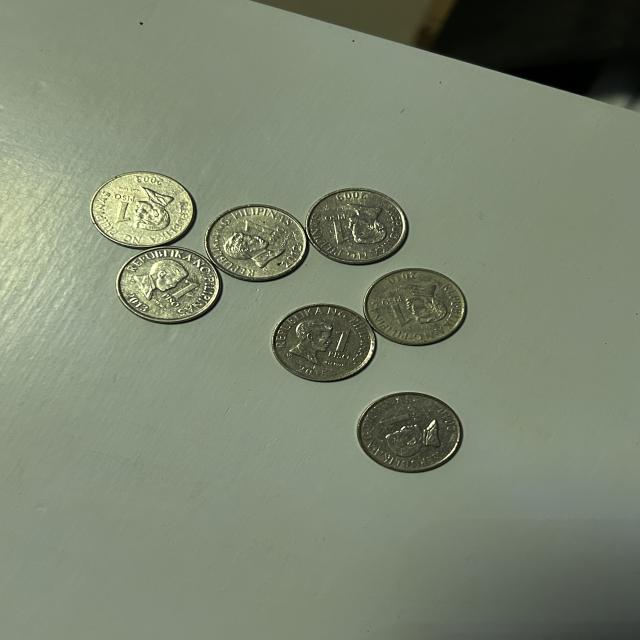1_Old_Front: (239, 214, 287, 248), (375, 294, 411, 332), (374, 409, 426, 434), (108, 191, 141, 228), (160, 278, 200, 308), (320, 212, 352, 248), (329, 324, 355, 368)
